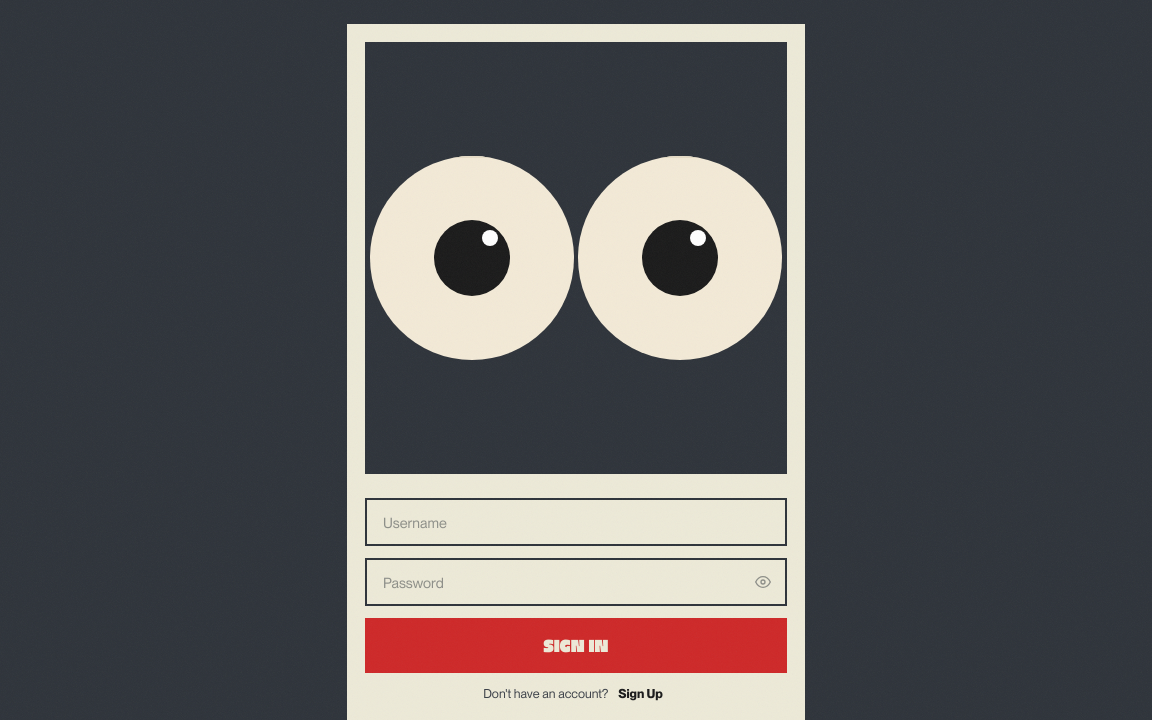
Test: LoginPage › 注册模式点击 Sign In 切回登录模式
Step 1. Click the button "Sign Up" → (641, 694), box [612, 685, 669, 702]
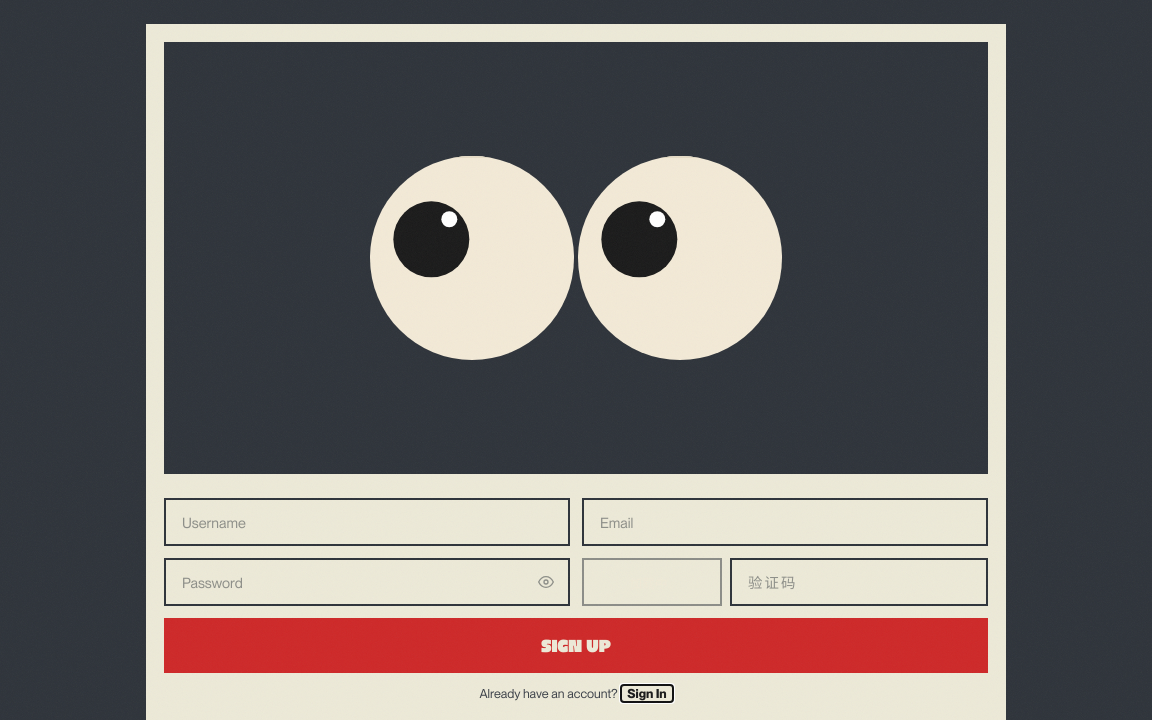
Check: the field with placeholder "Email" is shown, box [582, 498, 988, 546]
Step 2. Click the button "Sign In" → (647, 694), box [621, 685, 673, 702]
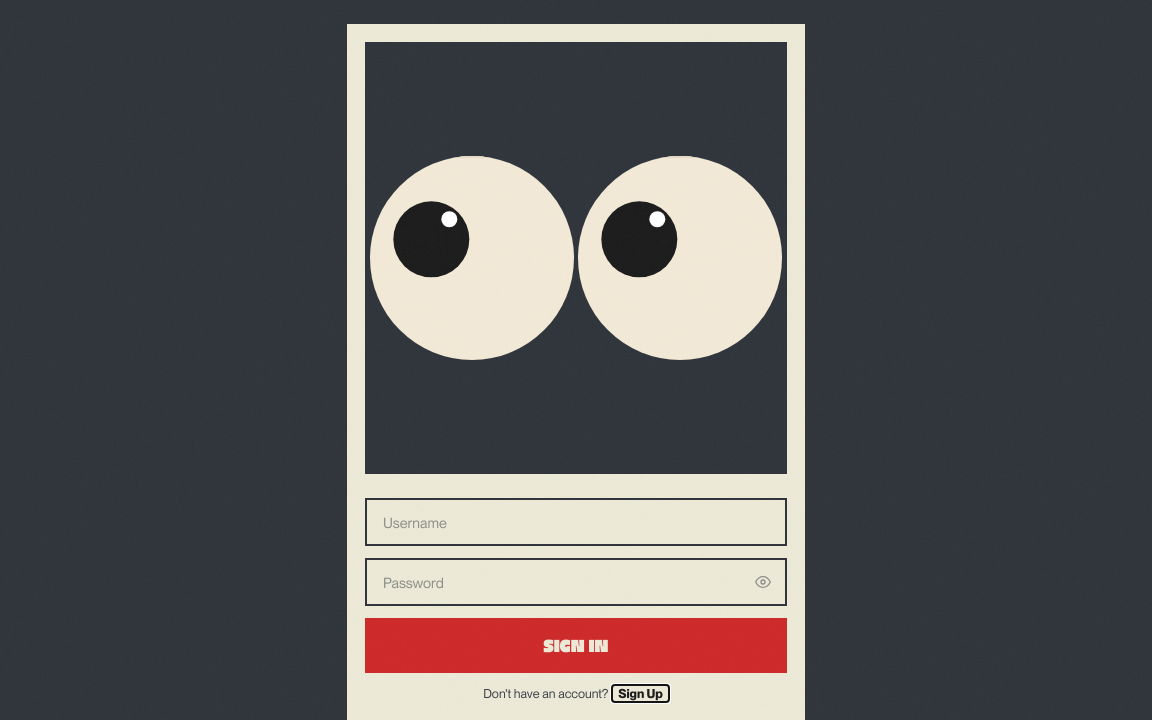
Check: the field with placeholder "Email" is gone
